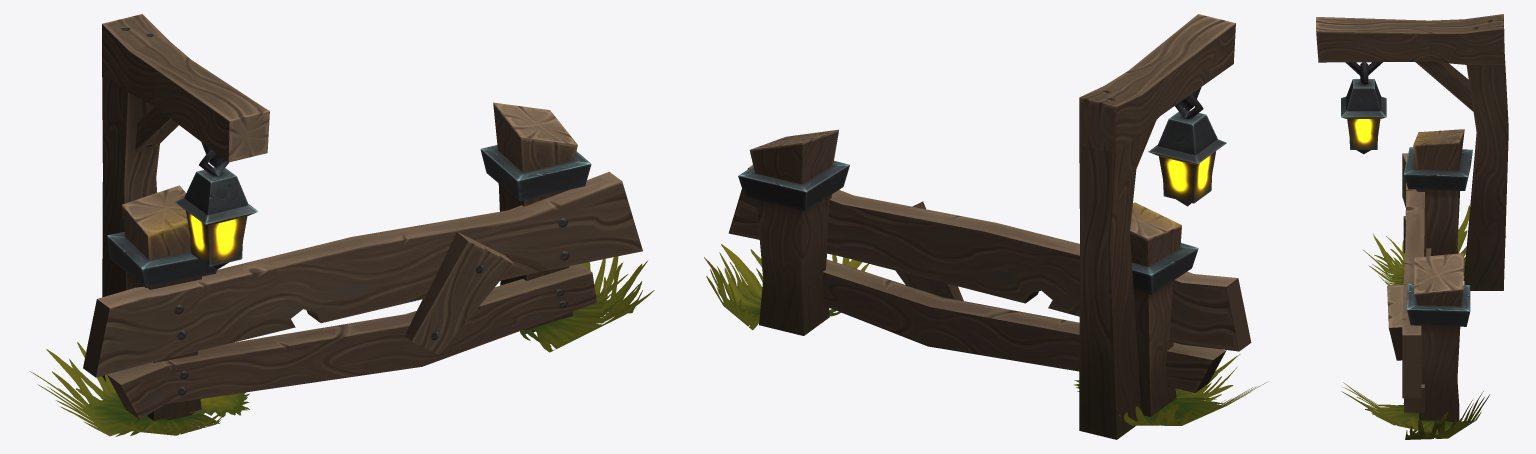
File: fence_lamp.fbx
3 views of the same model, side by side, from view 1: azimuth 30°, elevation 25°; view 2: azimuth 150°, elevation 25°; view 3: azimuth 270°, elevation 25° (orthographic). The views are drawn at different scales.
Visible parts, largest first — view 1: fence_lamp, fence_lamp_grass; view 2: fence_lamp, fence_lamp_grass; view 3: fence_lamp, fence_lamp_grass.
Part boxes in pixels (x1,y1,x2,y2): fence_lamp: [83, 14, 642, 420]; fence_lamp_grass: [30, 256, 654, 436]; fence_lamp: [728, 14, 1251, 439]; fence_lamp_grass: [704, 244, 1266, 425]; fence_lamp: [1316, 14, 1508, 422]; fence_lamp_grass: [1341, 205, 1506, 439].
Size of the model in its own units: 293 by 162 by 115.
